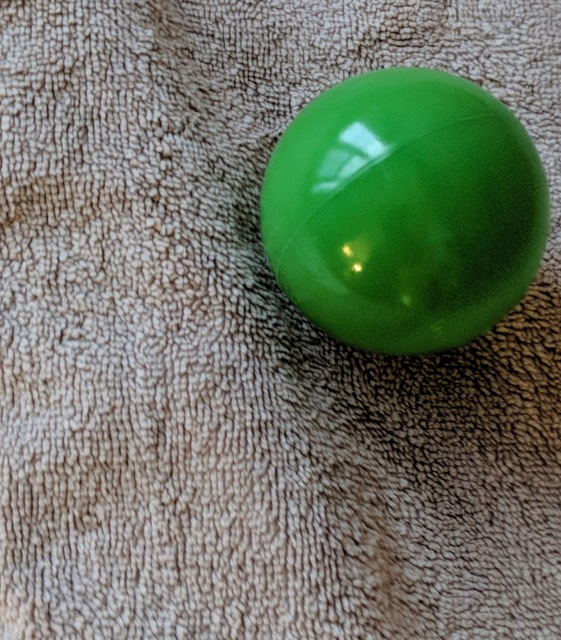ball: (258, 67, 551, 353)
